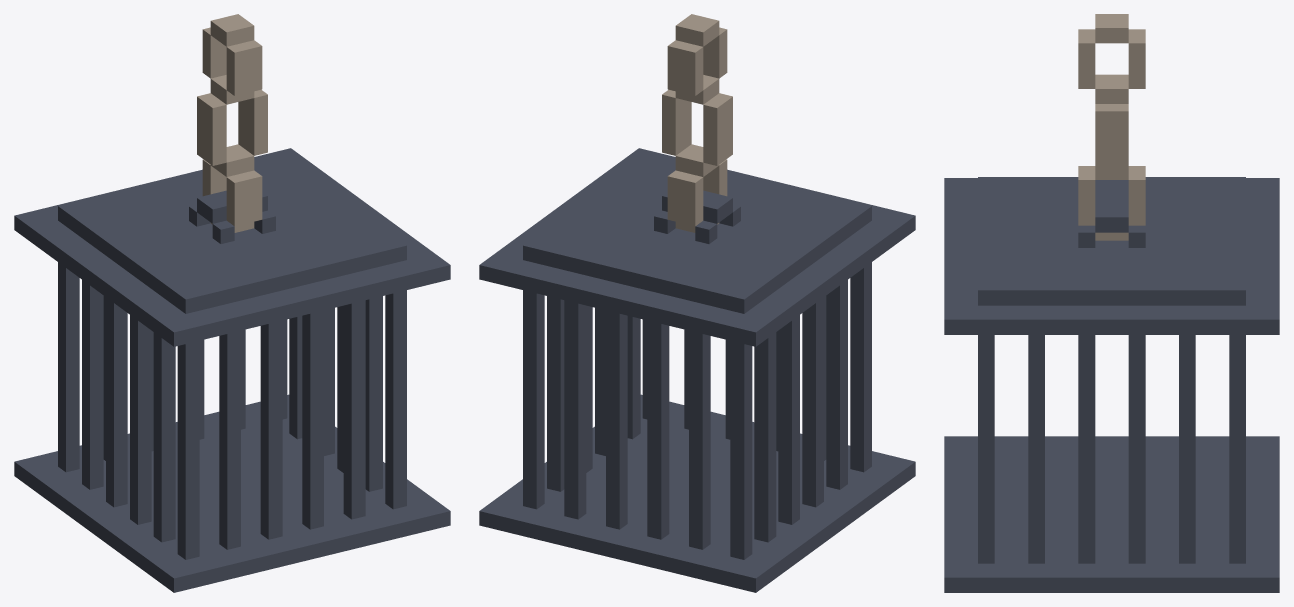
File: Jaula_2.obj
3 renders of one model, left to right at view 1: azimuth 30°, elevation 25°; view 2: azimuth 150°, elevation 25°; view 3: azimuth 270°, elevation 25°, orthographic. The views are drawn at different scales.
Bounding box in the file's own units: 2 × 3.3 × 2.
Materials: 1 (1 with a texture image).
